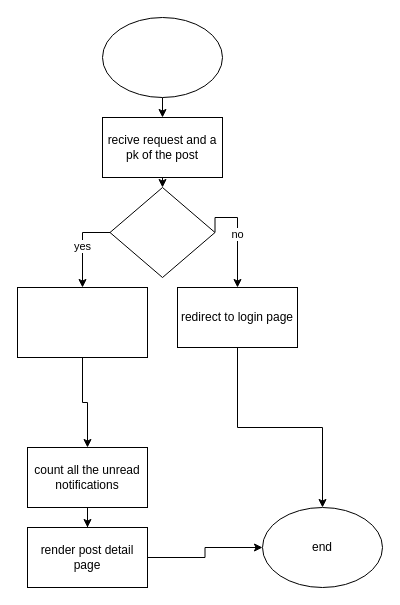
This 400x605 diagram has some shape labels left out. Here are the shapes that lost their labels. From the top down, the centre of each, then its label:
(x=162, y=57): start
(x=162, y=232): user logged in
(x=82, y=322): fetch the data of the post that's pk matches the pk in the request
